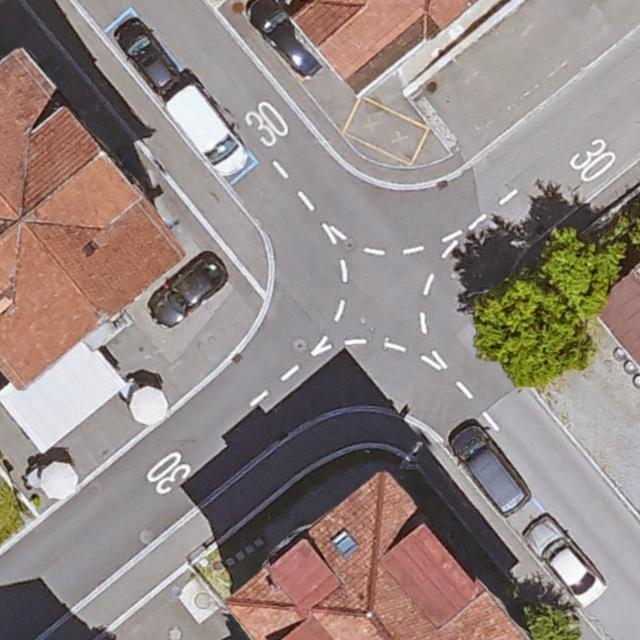tree: (472, 281, 590, 386), (540, 228, 624, 312), (524, 606, 582, 640)
